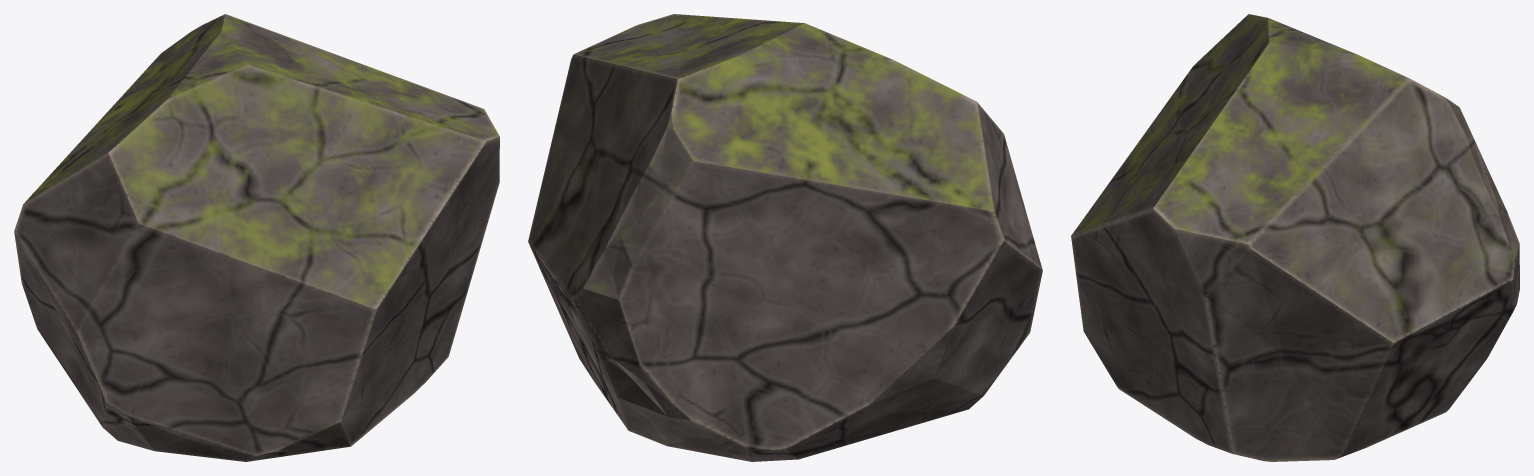
The model's file is Stone_Medium_A.fbx.
3 views of the same model, side by side, from view 1: azimuth 30°, elevation 25°; view 2: azimuth 150°, elevation 25°; view 3: azimuth 270°, elevation 25° (orthographic). The views are drawn at different scales.
Visible parts, largest first — view 1: Stone_Medium_A; view 2: Stone_Medium_A; view 3: Stone_Medium_A.
Boxes of the visible parts, bbox=[...] form: Stone_Medium_A: bbox=[14, 14, 499, 461]; Stone_Medium_A: bbox=[528, 14, 1042, 461]; Stone_Medium_A: bbox=[1071, 14, 1519, 461].
Bounding box in the file's own units: 0.678 × 0.4952 × 0.6052.
